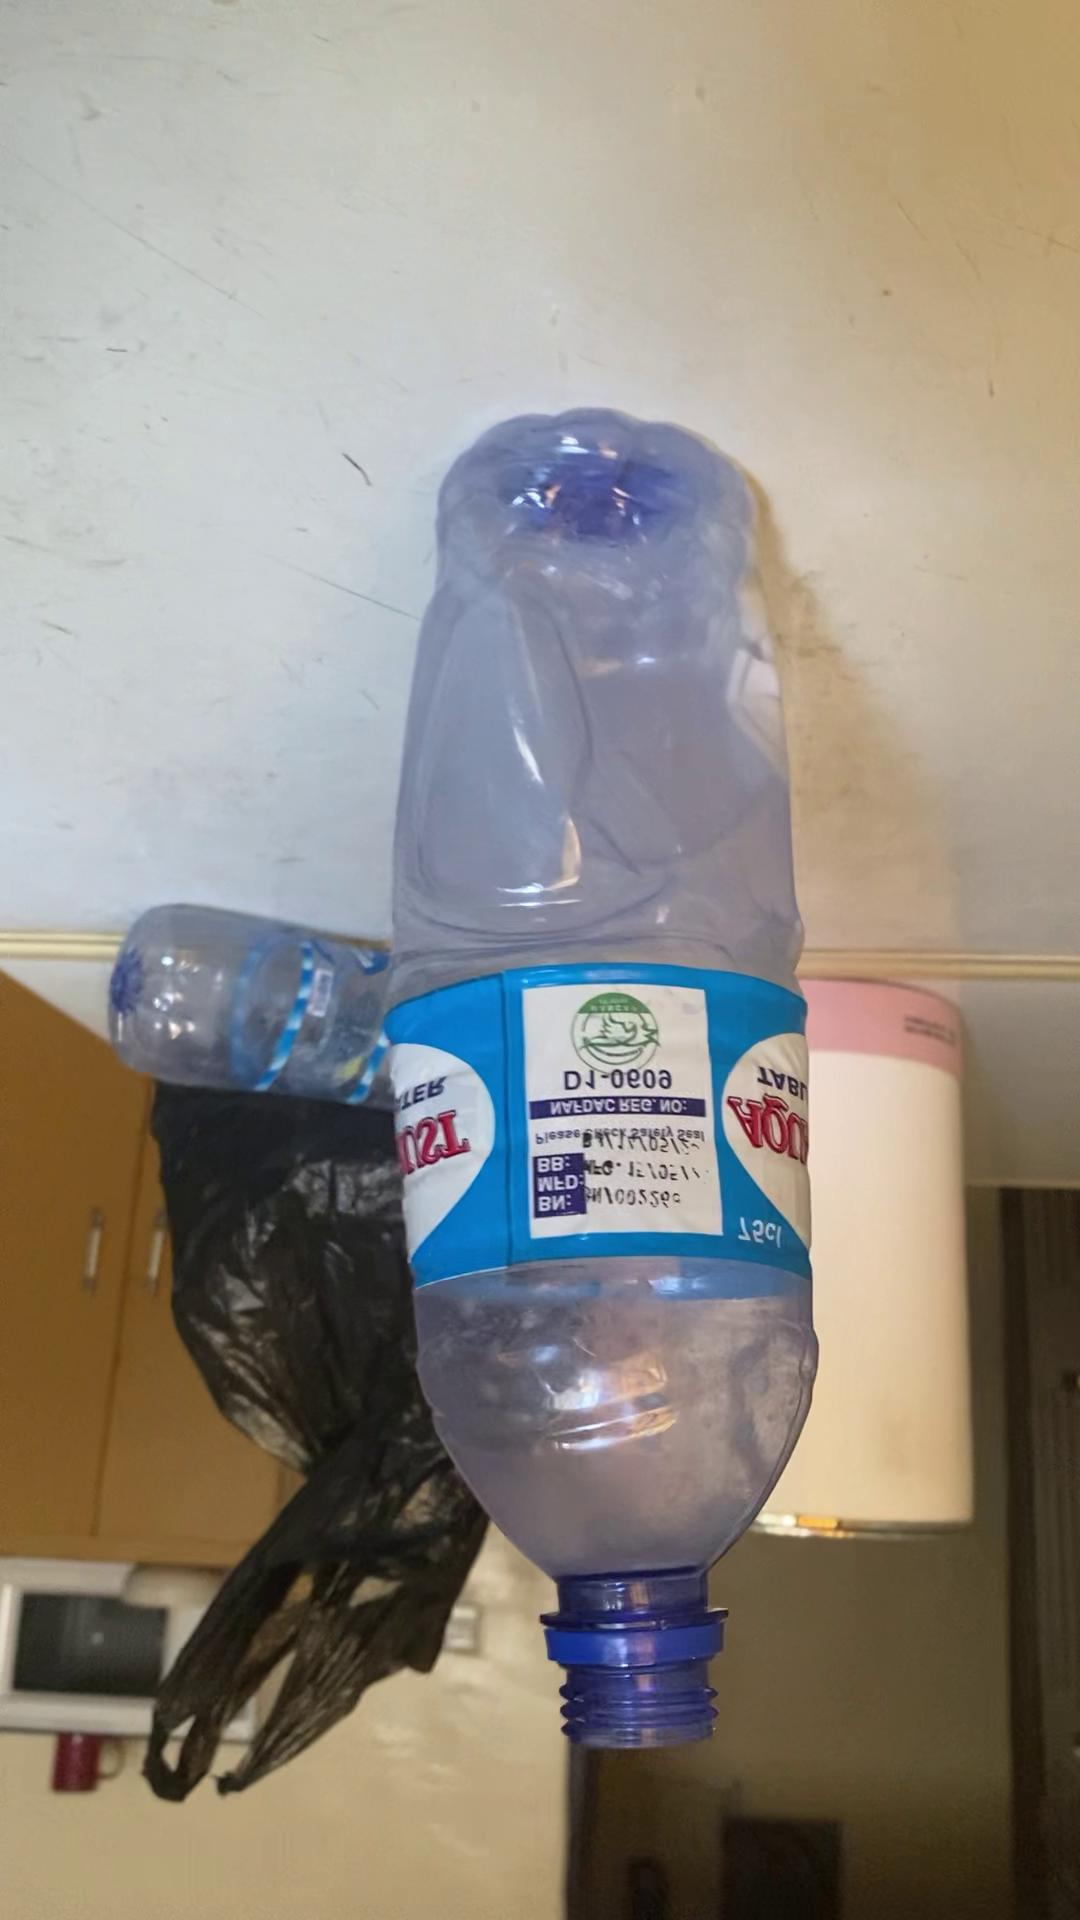crumbled: (375, 400, 835, 1775)
label: (394, 973, 811, 1283)
no-cap: (534, 1606, 727, 1762)
